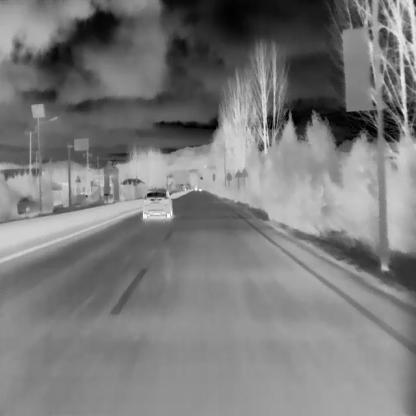car: (143, 190, 173, 218)
